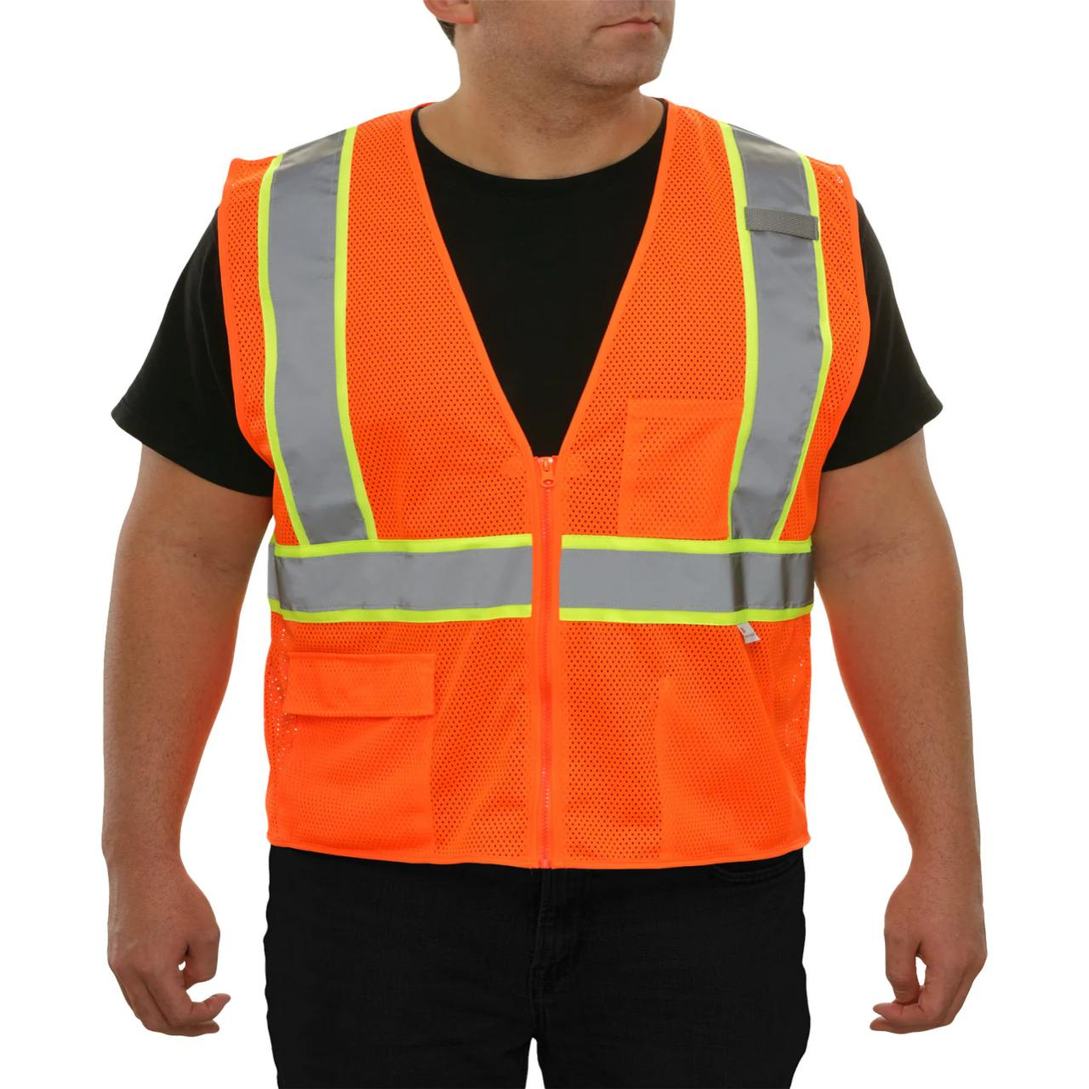Person: (89, 0, 1006, 1089)
Safety_Vest: (204, 93, 877, 897)
